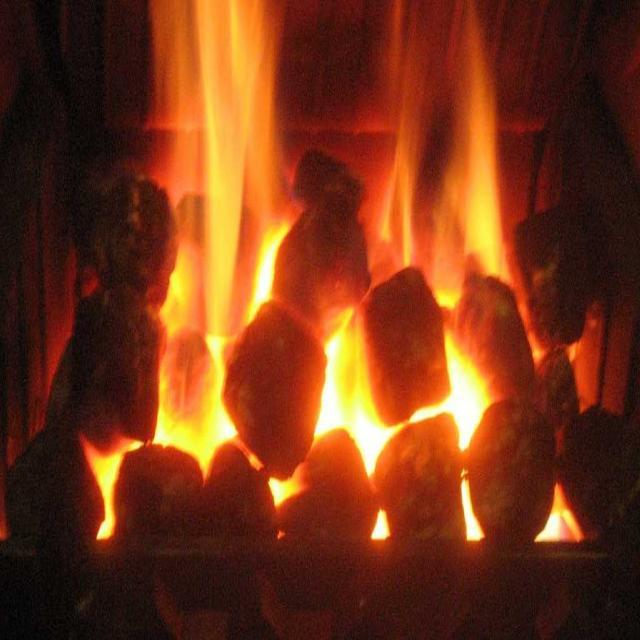Fire: (177, 5, 267, 192), (446, 100, 508, 272), (160, 385, 224, 443), (328, 341, 364, 434), (447, 351, 485, 429), (162, 260, 192, 334)
